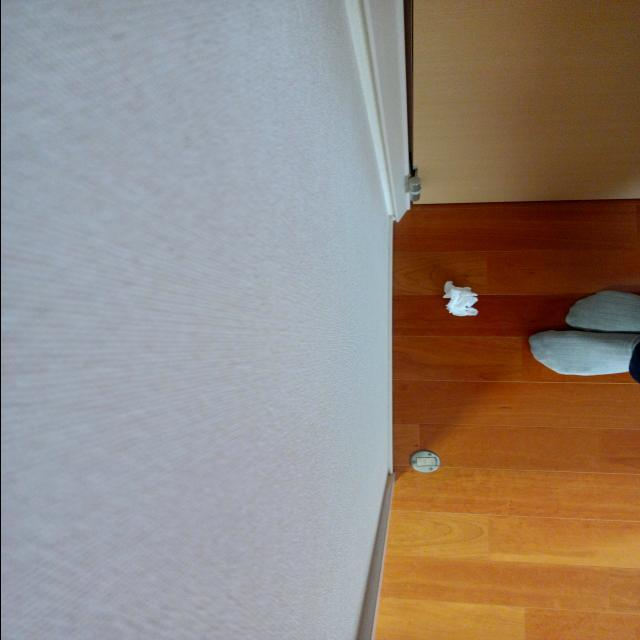Paper: (436, 273, 484, 333)
